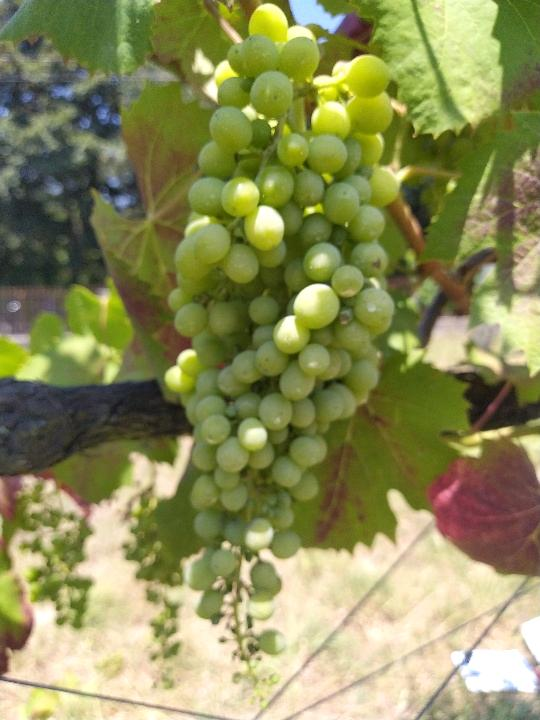grape: (162, 3, 402, 715)
